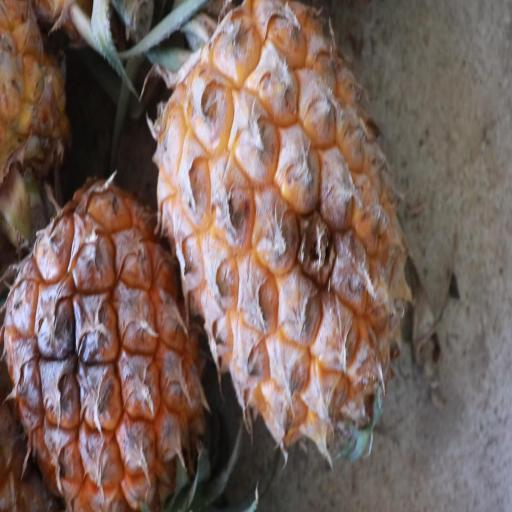Pineapple - v8 v1: (150, 0, 408, 464), (0, 164, 207, 512)
